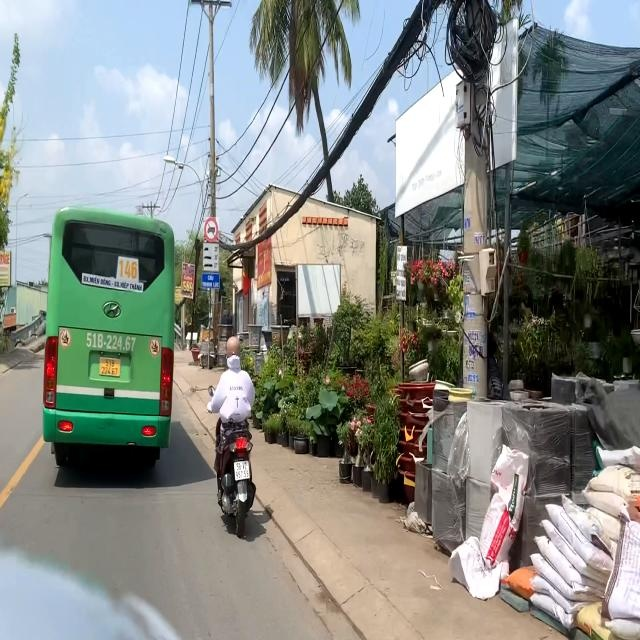bien_chi_dan: (203, 217, 219, 242)
